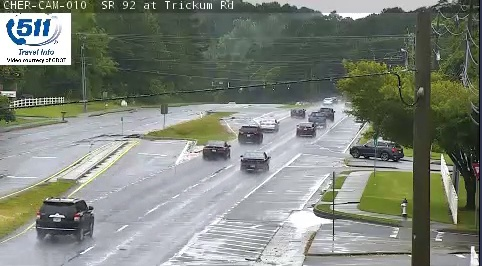car: (36, 198, 93, 233), (240, 152, 269, 171), (203, 140, 230, 159), (238, 125, 262, 142), (296, 122, 316, 137), (309, 112, 327, 126), (260, 119, 279, 132)
